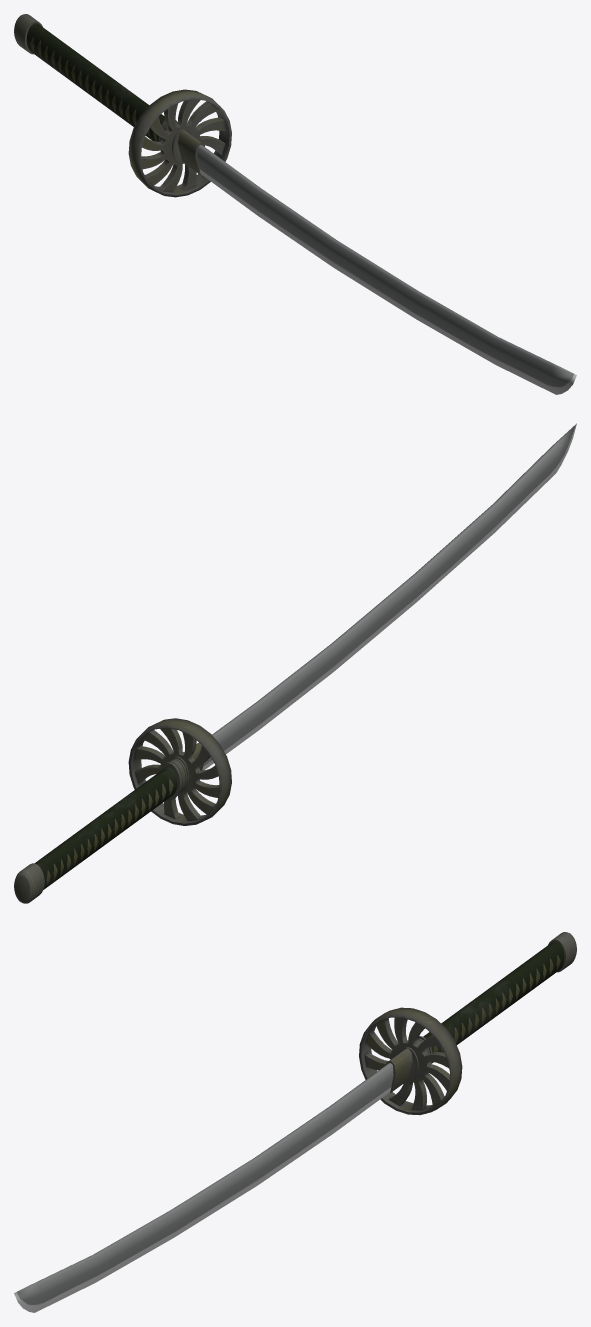
The model's file is Katana.glb.
3 renders of one model, top to bottom at view 1: azimuth 30°, elevation 25°; view 2: azimuth 150°, elevation 25°; view 3: azimuth 330°, elevation 25°, orthographic.
Visible parts, largest first — view 1: blade_low, tsuba_low, tsuka_low, hommon_low, kasira_low; view 2: blade_low, tsuba_low, tsuka_low, kasira_low; view 3: blade_low, tsuba_low, tsuka_low, hommon_low, kasira_low.
Boxes of the visible parts, x1,y1,x2,y2 form: blade_low: [197, 145, 576, 394]; tsuba_low: [128, 89, 231, 197]; tsuka_low: [26, 23, 165, 141]; hommon_low: [178, 130, 204, 174]; kasira_low: [14, 14, 42, 54]; blade_low: [202, 423, 576, 770]; tsuba_low: [128, 718, 231, 825]; tsuka_low: [35, 766, 177, 889]; kasira_low: [14, 863, 44, 903]; blade_low: [14, 1063, 393, 1312]; tsuba_low: [359, 1007, 462, 1115]; tsuka_low: [423, 941, 564, 1063]; hommon_low: [386, 1048, 412, 1092]; kasira_low: [548, 932, 576, 972].
Size of the model in its own units: 0.1683 by 0.1829 by 1.69.
1 material, 1 textured.
